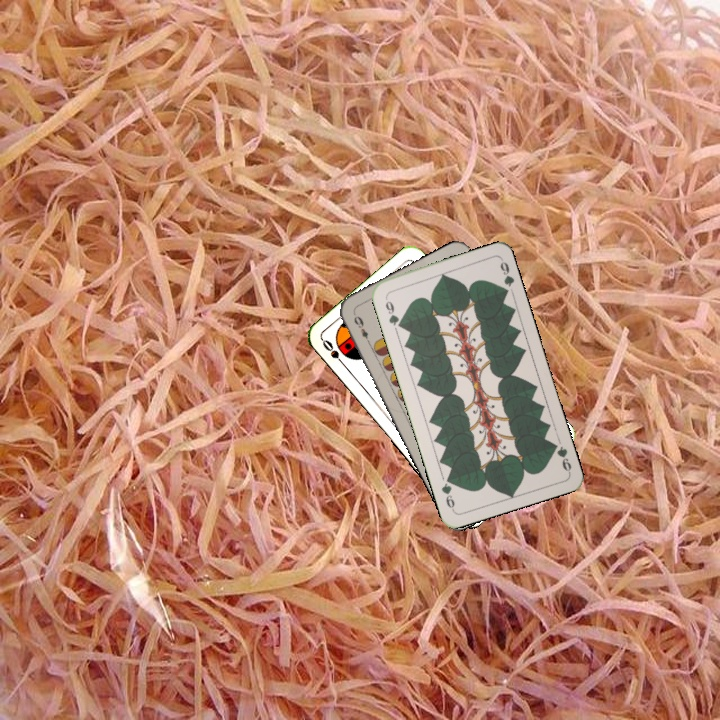E9: (350, 312, 373, 347)
G9: (547, 438, 574, 475), (381, 293, 405, 331)
SO: (318, 336, 349, 370)
